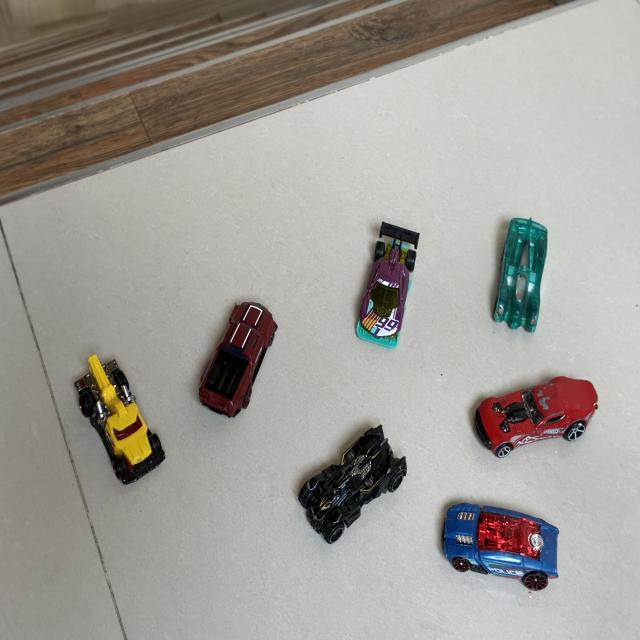cars: (298, 425, 407, 543), (75, 355, 164, 483), (442, 503, 558, 590), (474, 377, 597, 457), (199, 302, 277, 417), (356, 222, 419, 347), (494, 218, 547, 332)
